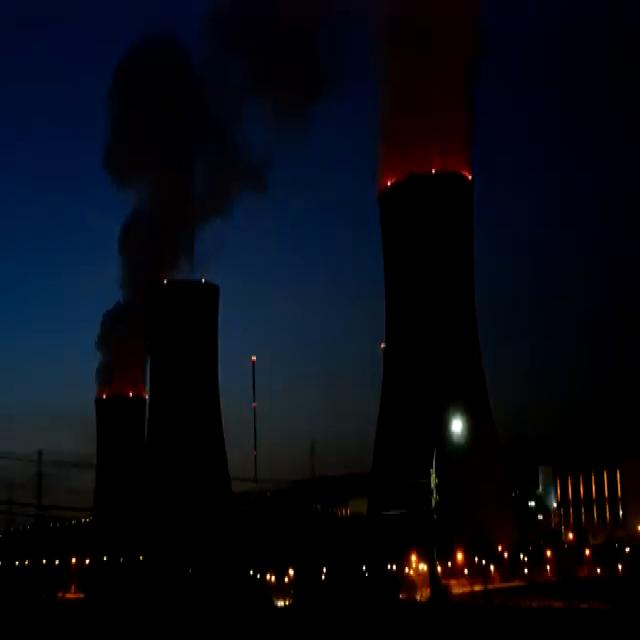smoke: (97, 27, 238, 398), (374, 0, 460, 187)
